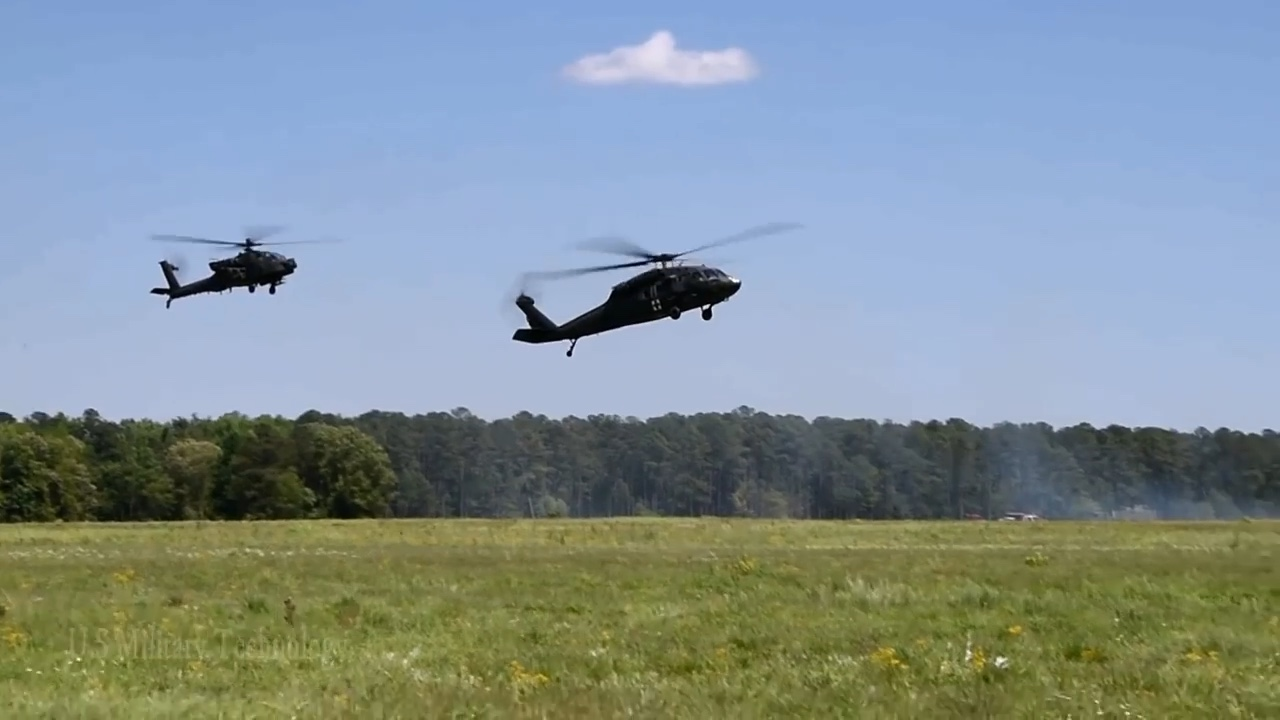ah64: (149, 223, 349, 312)
seahawk: (502, 224, 805, 358)
